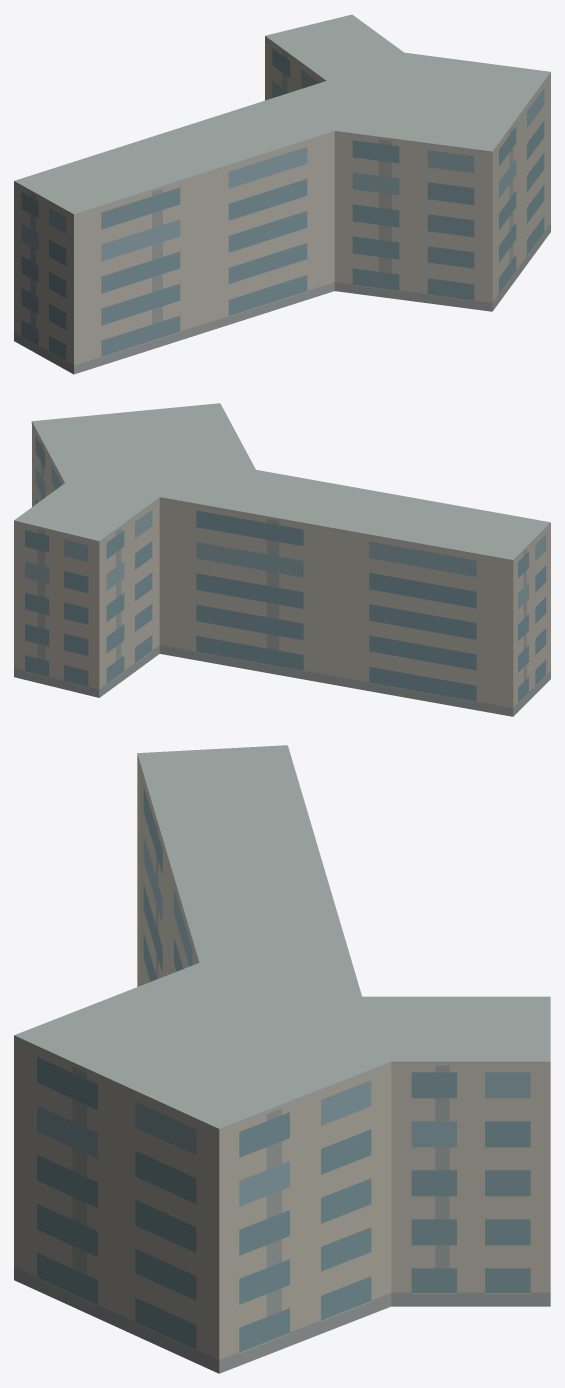
Rendered from residential-ee27e73f-0a8d-4f25-a6c7-15503964dc24.glb.
3 renders of one model, top to bottom at view 1: azimuth 30°, elevation 25°; view 2: azimuth 150°, elevation 25°; view 3: azimuth 270°, elevation 25°, orthographic. The views are drawn at different scales.
Parts seen in each view (by area): view 1: residential-ee27e73f-0a8d-4f25-a6c7-15503964dc24.tmp; view 2: residential-ee27e73f-0a8d-4f25-a6c7-15503964dc24.tmp; view 3: residential-ee27e73f-0a8d-4f25-a6c7-15503964dc24.tmp.
Part boxes in pixels (bbox=[...]): residential-ee27e73f-0a8d-4f25-a6c7-15503964dc24.tmp: bbox=[14, 14, 550, 374]; residential-ee27e73f-0a8d-4f25-a6c7-15503964dc24.tmp: bbox=[14, 403, 550, 716]; residential-ee27e73f-0a8d-4f25-a6c7-15503964dc24.tmp: bbox=[14, 745, 550, 1373].
Size of the model in its own units: 51.26 by 15.25 by 30.31.
